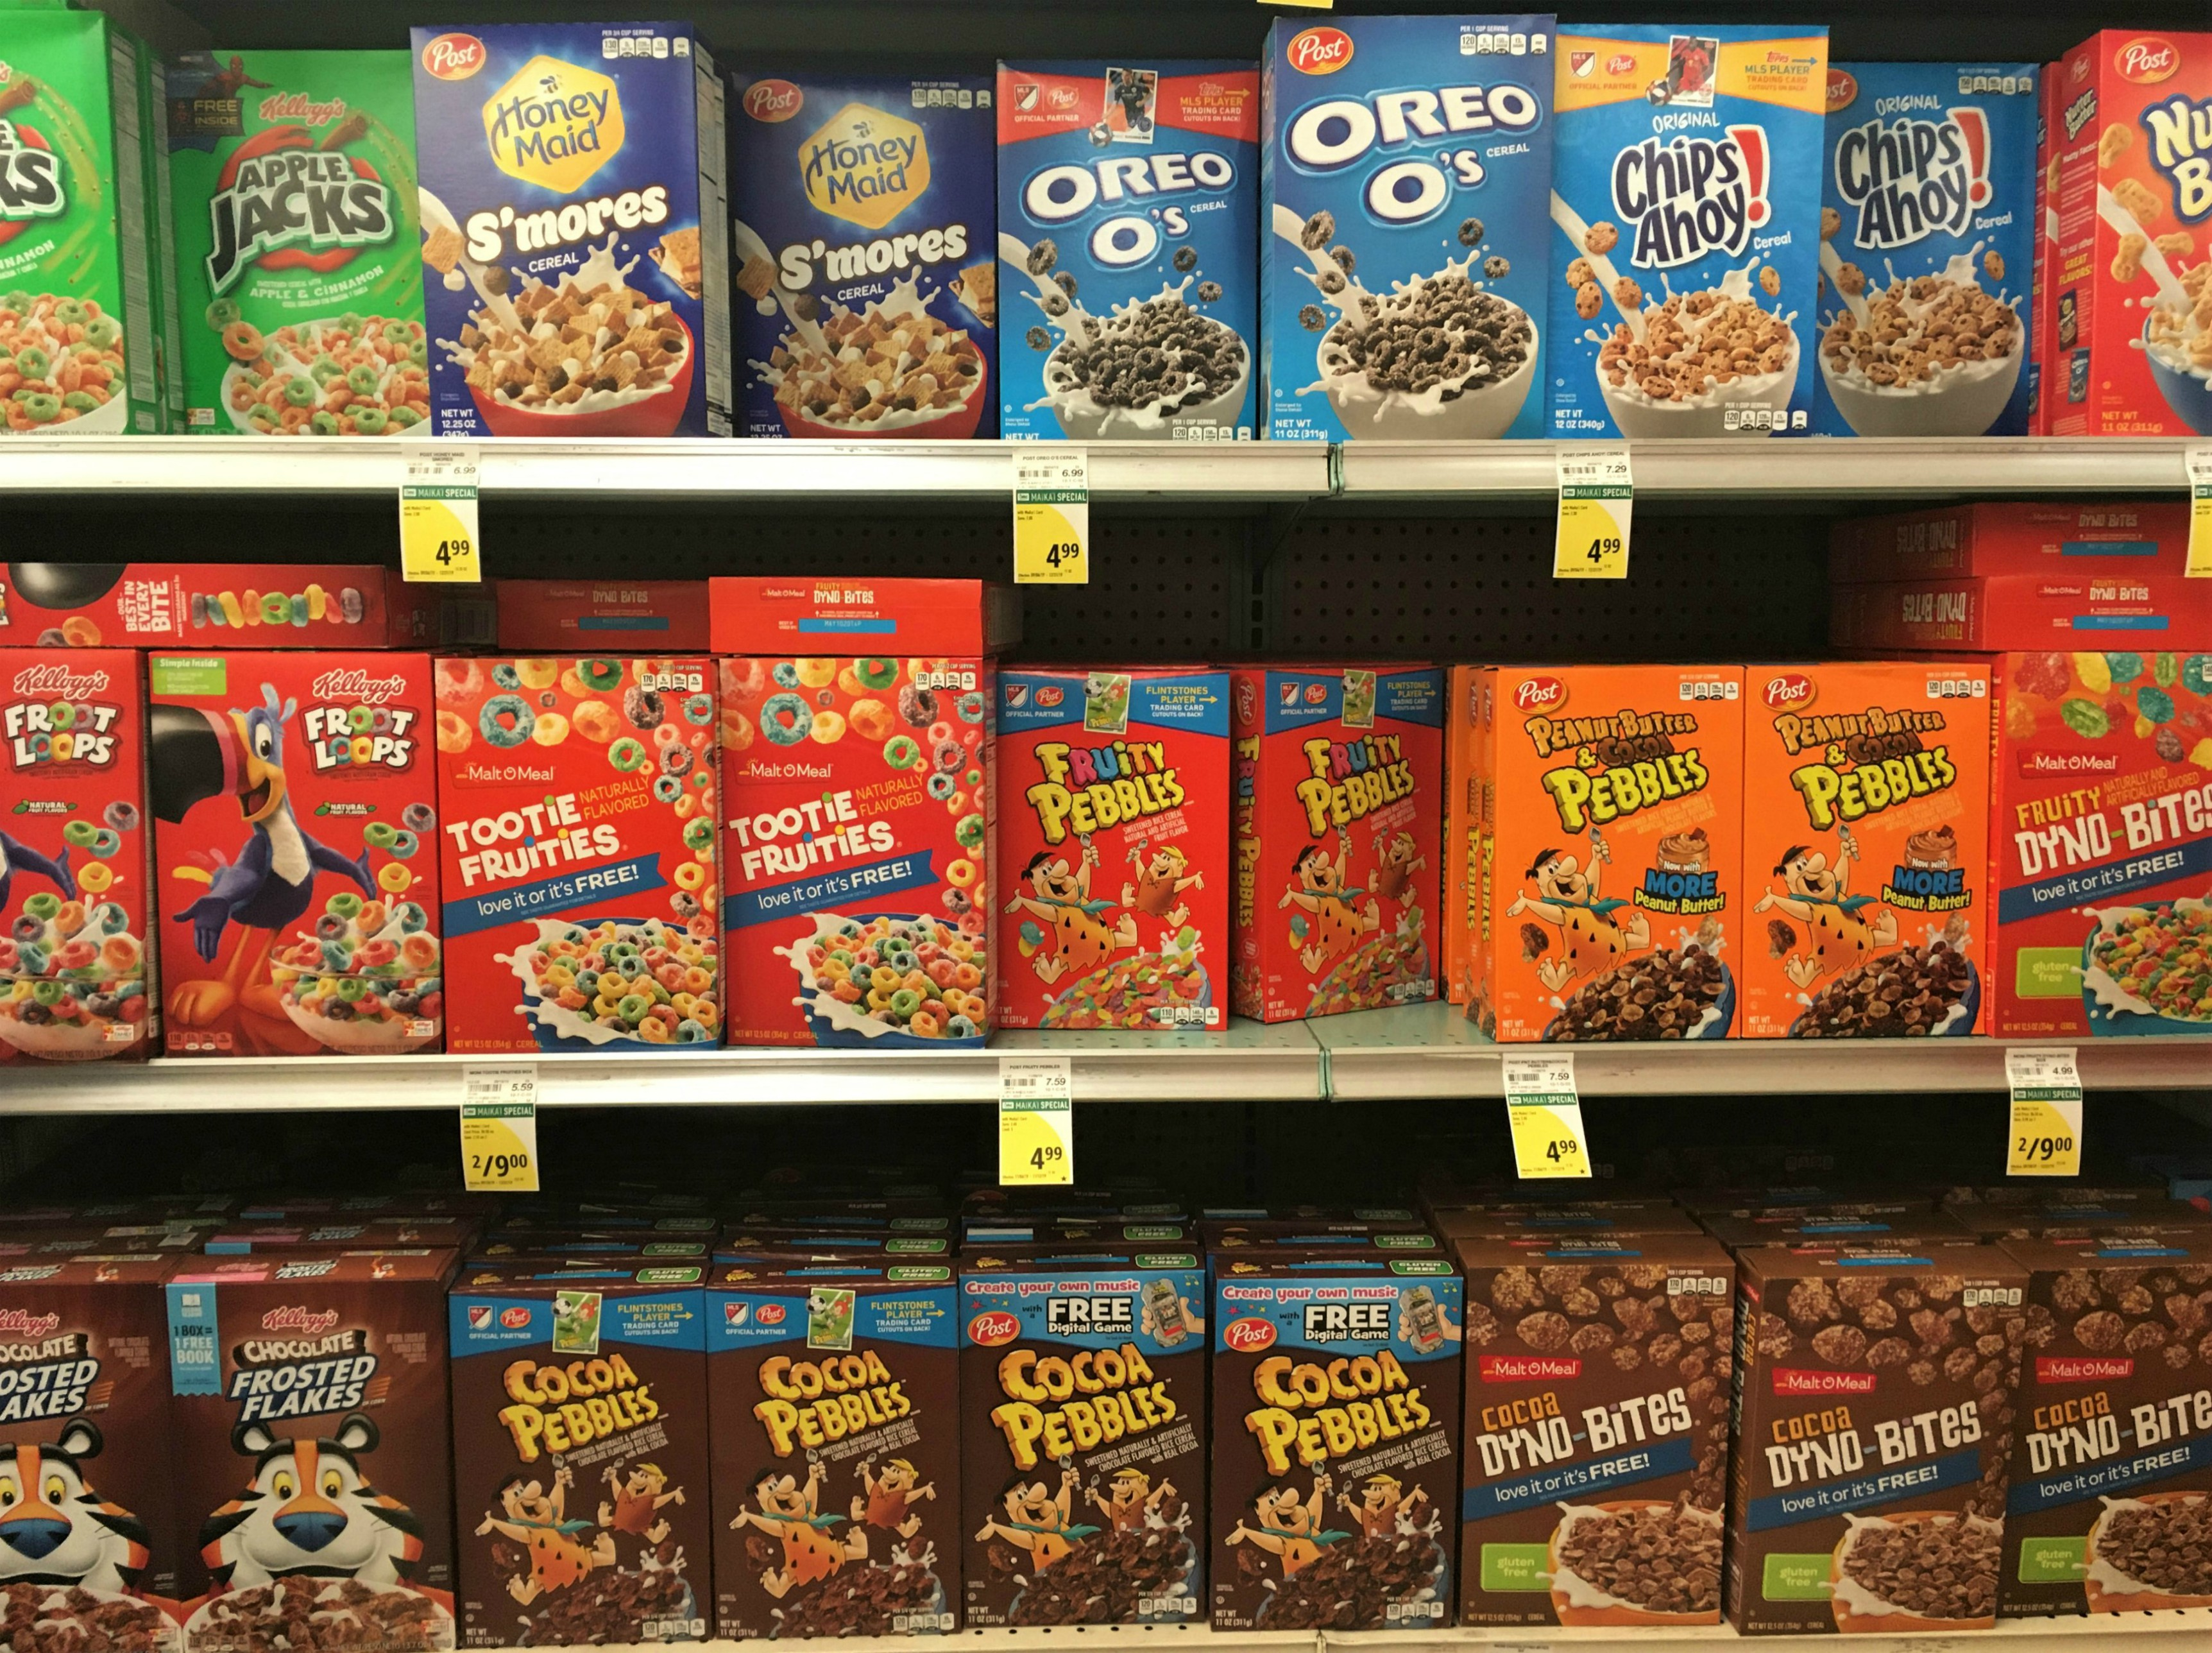cereal: (429, 26, 697, 441), (439, 668, 711, 1065), (169, 653, 434, 1058), (1282, 37, 1544, 434), (1560, 39, 1814, 434), (724, 673, 992, 1048), (176, 1289, 453, 1650), (1490, 673, 1752, 1052), (1733, 665, 1993, 1046), (987, 75, 1251, 436), (727, 89, 994, 429), (452, 1303, 710, 1653), (1471, 1285, 1730, 1629), (1817, 70, 2048, 446), (966, 1285, 1212, 1632), (191, 56, 418, 427), (715, 1305, 961, 1643), (1767, 1292, 2009, 1629), (996, 680, 1225, 1025), (1218, 1287, 1449, 1627), (2022, 1279, 2212, 1622)
